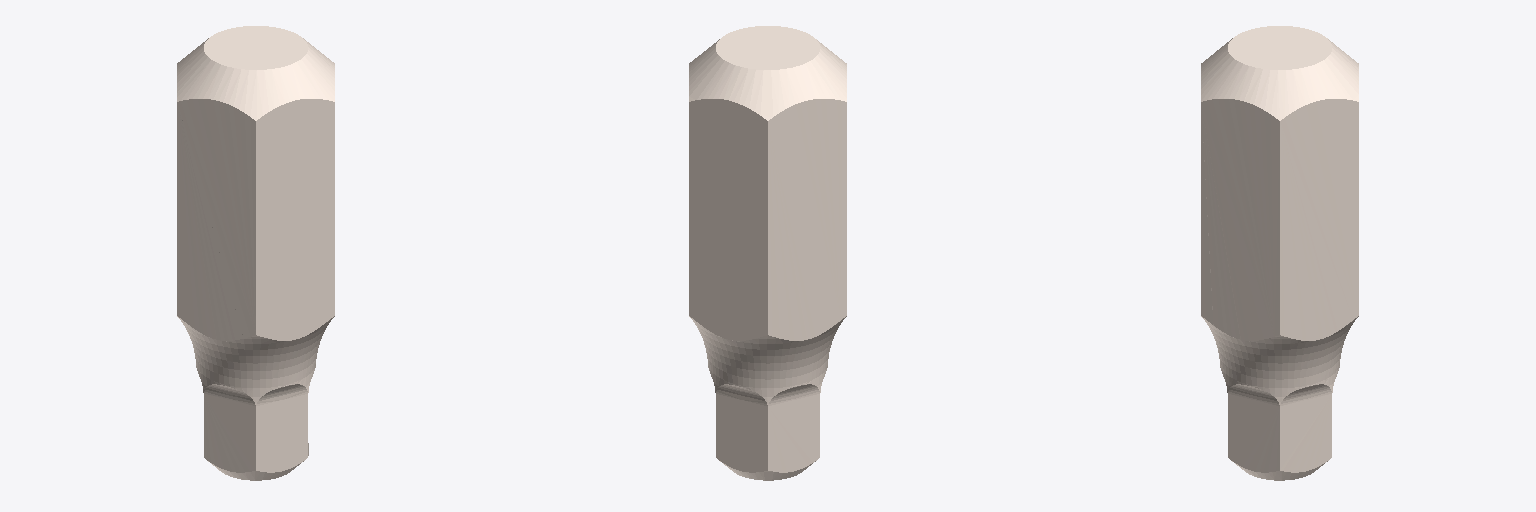
The model's file is secf_prob3.obj.
3 views of the same model, side by side, from view 1: azimuth 30°, elevation 25°; view 2: azimuth 150°, elevation 25°; view 3: azimuth 270°, elevation 25° (orthographic).
Parts seen in each view (by area): view 1: SecF_Prob3; view 2: SecF_Prob3; view 3: SecF_Prob3.
Boxes of the visible parts, <box> form: SecF_Prob3: <box>177,26,334,480</box>; SecF_Prob3: <box>689,26,846,480</box>; SecF_Prob3: <box>1201,26,1358,480</box>.
Size of the model in its own units: 0.0069 by 0.0175 by 0.006.